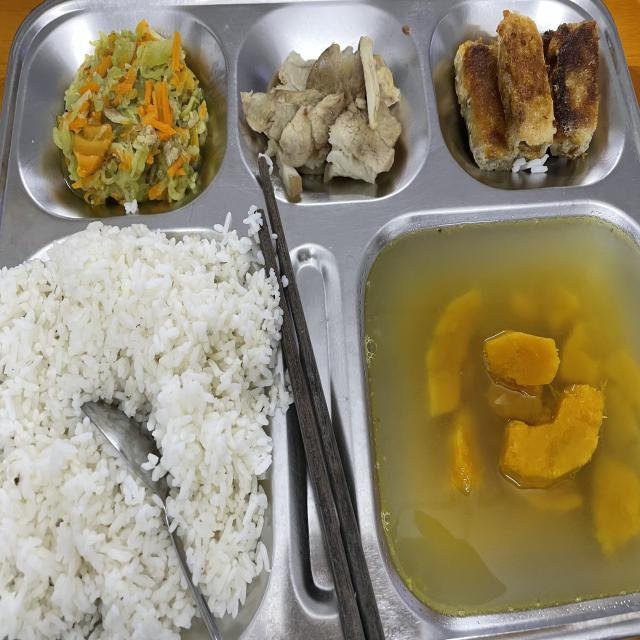canh bi do: (364, 217, 640, 617)
com: (0, 222, 291, 640)
rau: (53, 19, 209, 206)
thit luoc: (241, 36, 401, 197)
